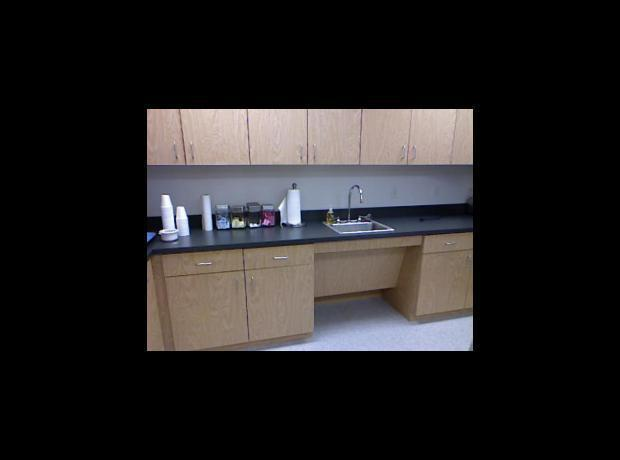Lavaplatos: (320, 183, 396, 245)
